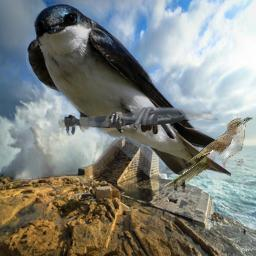Cuckoo: (164, 117, 253, 188)
Swallow: (26, 4, 231, 177)
